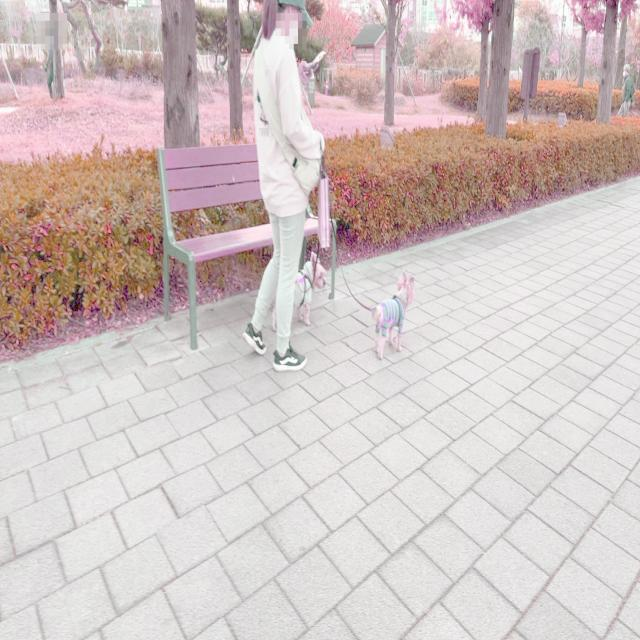Leashed_Dog: (286, 132, 414, 370), (272, 130, 328, 334)
